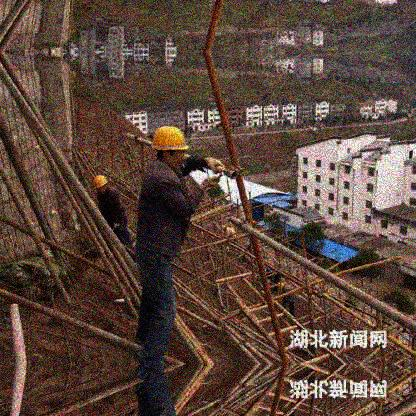helmet: (152, 125, 192, 168), (92, 174, 107, 195)
